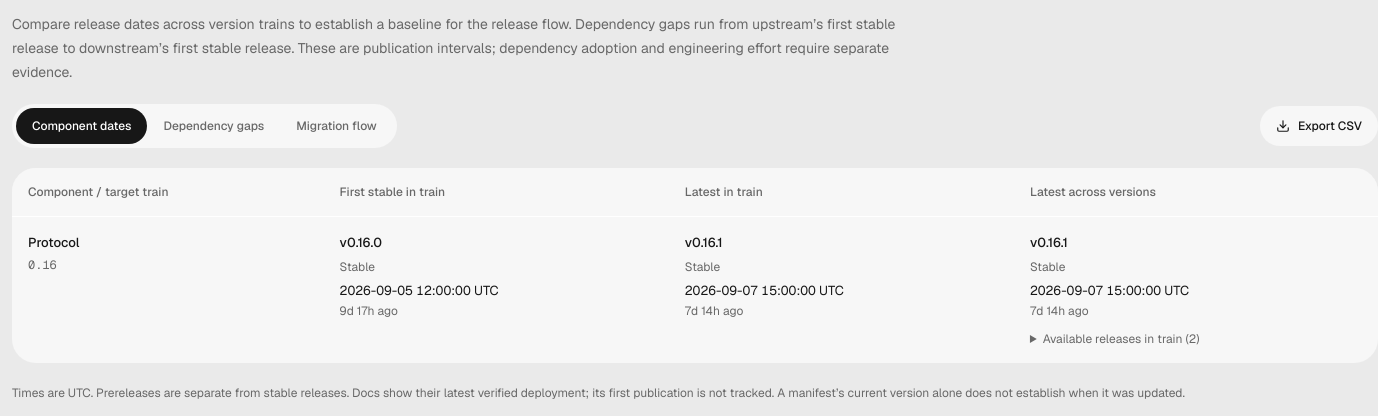
Scenario: shows merged migration evidence only in the timing view, with exportable gaps
Click the button "Migration flow" at {"x": 337, "y": 126}, box [280,108,393,144]
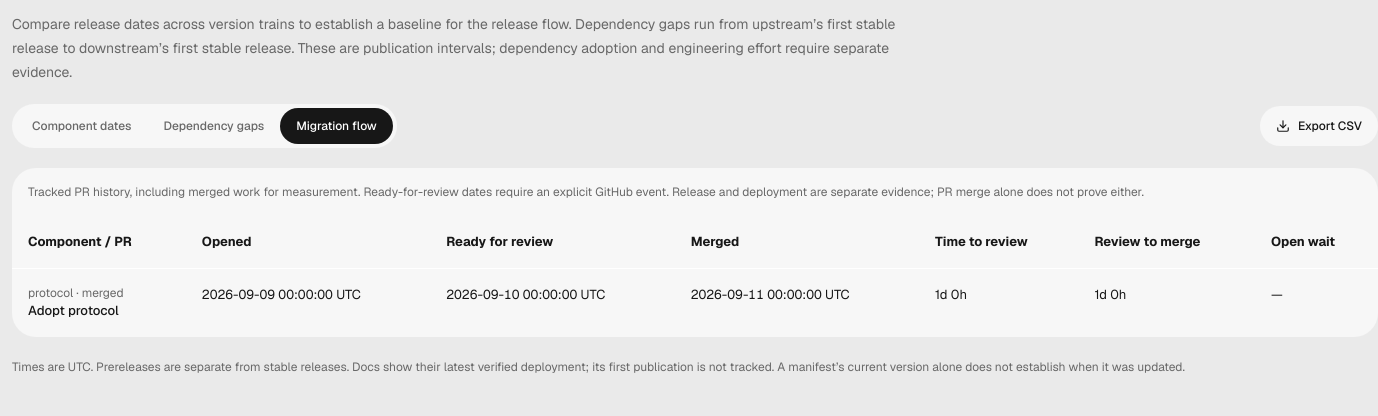
expect the element named "Migration flow timing" shows "Adopt protocol": met, box [28,302,119,319]
